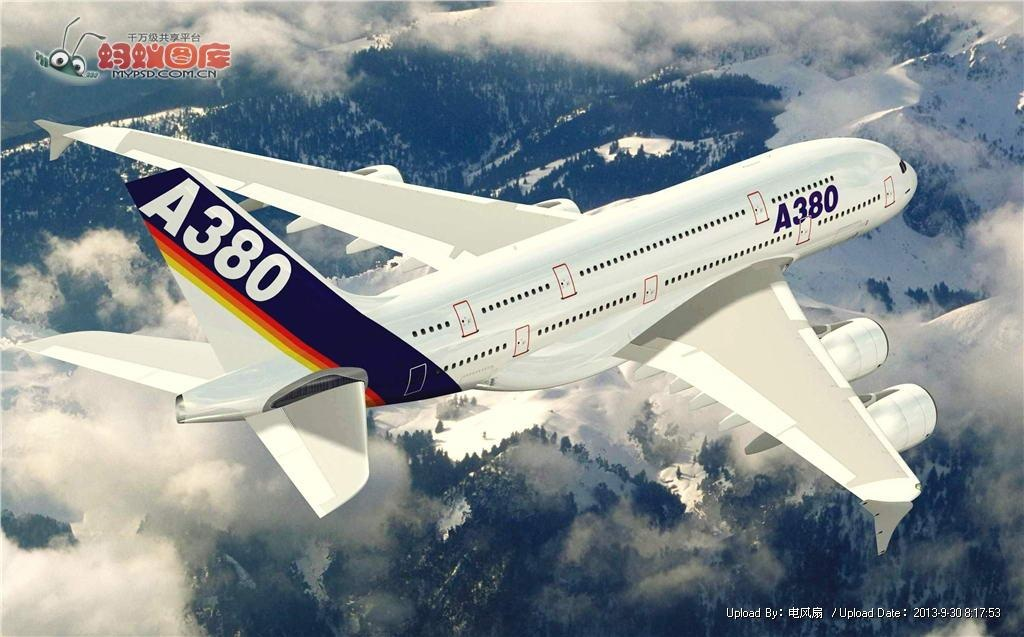airplane: (29, 104, 952, 549)
